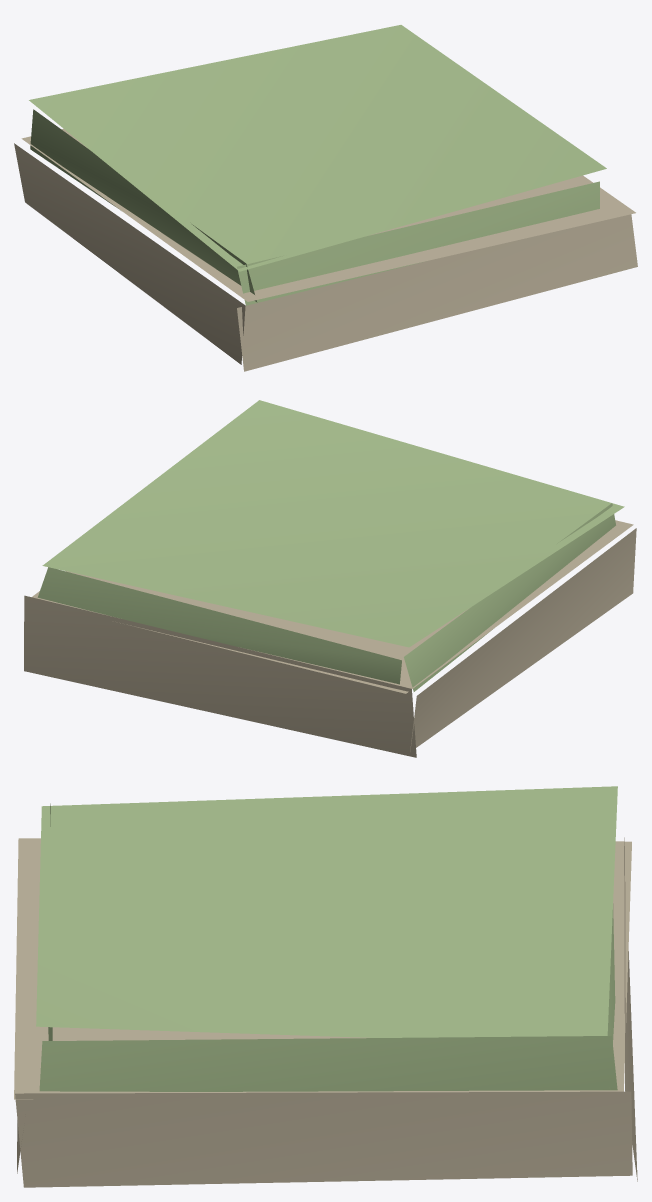
Rendered from ground_tile.glb.
3 renders of one model, top to bottom at view 1: azimuth 30°, elevation 25°; view 2: azimuth 150°, elevation 25°; view 3: azimuth 270°, elevation 25°, orthographic. The views are drawn at different scales.
Parts seen in each view (by area): view 1: ground_tile; view 2: ground_tile; view 3: ground_tile.
Boxes of the visible parts, x1=… form: ground_tile: x1=14, y1=25, x2=637, y2=371; ground_tile: x1=24, y1=400, x2=636, y2=757; ground_tile: x1=14, y1=786, x2=637, y2=1187.
Size of the model in its own units: 3.28 by 0.8644 by 3.29.
